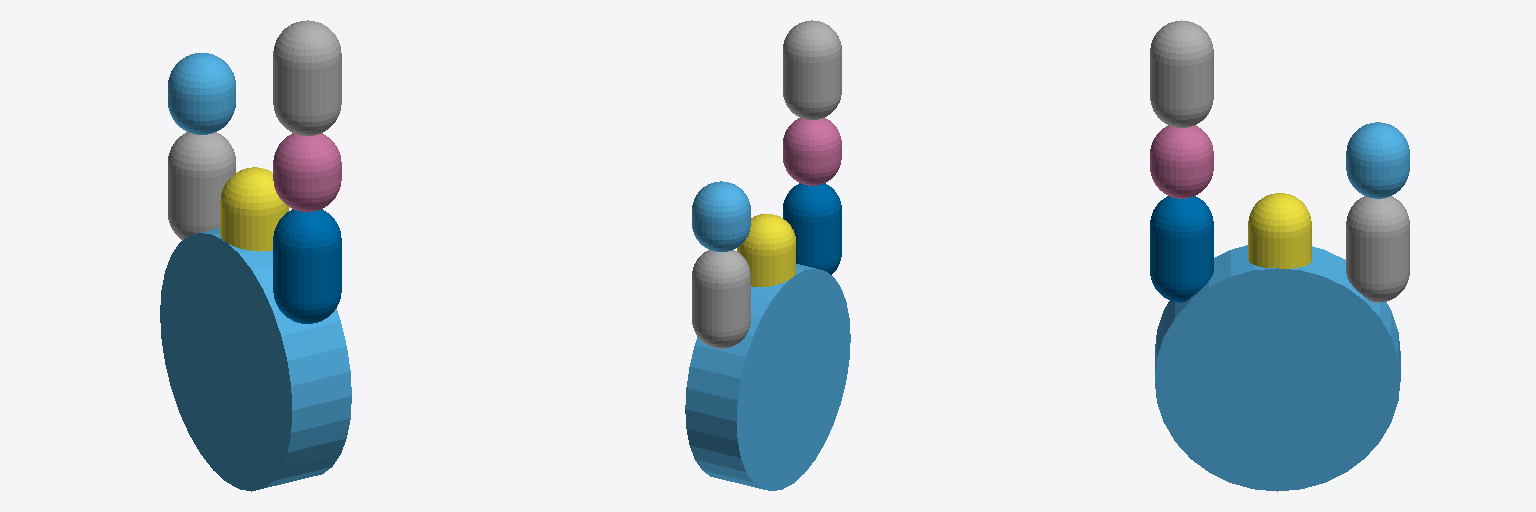
robot.urdf — DexterousHand:
<?xml version="1.0"?>
<robot name="DexterousHand">


    <link name="world"/>
    <joint name="world_to_palm" type="fixed">
        <parent link="world"/>
        <child link="palm"/>
        <origin xyz="0 0 0" rpy="0 0 0"/>
    </joint>
    <link name="palm">
        <inertial>
            <origin xyz="0 0 0.057" rpy="0 0 0"/>
            <mass value="0.30212892864"/>
            <inertia ixx="0.00049080844457568" ixy="0.0" ixz="0.0" iyy="0.00026746366246427523" iyz="0.0" izz="0.00026746366246427523"/>
        </inertial>
        <visual>
            <origin xyz="0 0 0.057" rpy="1.5708 0 1.5708"/>
            <geometry>
                <cylinder radius="0.057" length="0.0296"/>
            </geometry>
            <material name="default"/>
        </visual>
        <collision>
            <origin xyz="0 0 0.057" rpy="1.5708 0 1.5708"/>
            <geometry>
                <cylinder radius="0.057" length="0.0296"/>
            </geometry>
        </collision>
    </link>

    
    <joint name="thumb_joint1" type="revolute">
        <parent link="palm"/>
        <child link="thumb_base"/>
        <origin xyz="0.0 0.0 0.0" rpy="0.0 0.0 0.0"/>
        <axis xyz="1 0 0"/>
        <limit lower="0.0" upper="0.0" effort="1.0" velocity="1.0"/>
    </joint>

    <link name="thumb_base"></link>

    <joint name="thumb_joint2" type="revolute">
        <parent link="thumb_base"/>
        <child link="thumb_proximal"/>
        <origin xyz="0.0 0.0 0.0" rpy="0.0 0.0 0.0"/>
        <axis xyz="0 1 0"/>
        <limit lower="0.0" upper="0.0" effort="1.0" velocity="1.0"/>
    </joint>

    <link name="thumb_proximal">
    </link>

    <joint name="thumb_joint3" type="revolute">
        <parent link="thumb_proximal"/>
        <child link="thumb_knuckle"/>
        <origin xyz="0.0 0.0 0.0" rpy="0.0 0.0 0.0"/>
        <axis xyz="1 0 0"/>
        <limit lower="0.0" upper="0.0" effort="1.0" velocity="1.0"/>
    </joint>

    <link name="thumb_knuckle"></link>

    <joint name="thumb_joint4" type="revolute">
        <parent link="thumb_knuckle"/>
        <child link="thumb_middle"/>
        <origin xyz="0 0 0" rpy="0 0 0"/> 
        <axis xyz="0 1 0"/>
        <limit lower="0.0" upper="0.0" effort="1.0" velocity="1.0"/>
    </joint>

    <link name="thumb_middle">
    </link>

    <joint name="thumb_joint5" type="revolute">
        <parent link="thumb_middle"/>
        <child link="thumb_distal"/>
        <origin xyz="0 0 0" rpy="0 0 0"/> 
        <axis xyz="0 1 0"/>
        <limit lower="0.0" upper="0.0" effort="1.0" velocity="1.0"/>
    </joint>

    <link name="thumb_distal">
    </link>

    
    <joint name="index_joint1" type="revolute">
        <parent link="palm"/>
        <child link="index_proximal"/>
        <origin xyz="0.0 0.0465 0.091" rpy="0.0 0.0 0.0"/>
        <axis xyz="0 1 0"/>
        <limit lower="-0.314" upper="2.23" effort="1.0" velocity="1.0"/>
    </joint>

    <link name="index_proximal">
        <inertial>
            <origin xyz="0 0 0.02655" rpy="0 0 0"/>
            <mass value="0.036540024998400006"/>
            <inertia ixx="1.058665009272394e-05" ixy="0.0" ixz="0.0" 
            iyy="1.058665009272394e-05" iyz="0.0" izz="4.001863537824769e-06"/>
        </inertial>
        <visual>
            <origin xyz="0 0 0.02655" rpy="0 0 0"/>
            <geometry>
                <cylinder radius="0.0148" length="0.0235"/>
            </geometry>
            <material name="default"/>
        </visual>
        <visual>
            <origin xyz="0 0 0.0148" rpy="0 0 0"/>
            <geometry>
                <sphere radius="0.0148"/>
            </geometry>
            <material name="default"/>
        </visual>
        <visual>
            <origin xyz="0 0 0.0383" rpy="0 0 0"/>
            <geometry>
                <sphere radius="0.0148"/>
            </geometry>
            <material name="default"/>
        </visual>
        <collision>
            <origin xyz="0 0 0.02655" rpy="0 0 0"/>
            <geometry>
                <cylinder radius="0.0148" length="0.0235"/>
            </geometry>
        </collision>
        <collision>
            <origin xyz="0 0 0.0148" rpy="0 0 0"/>
            <geometry>
                <sphere radius="0.0148"/>
            </geometry>
        </collision>
        <collision>
            <origin xyz="0 0 0.0383" rpy="0 0 0"/>
            <geometry>
                <sphere radius="0.0148"/>
            </geometry>
        </collision>
    </link>

    <joint name="index_joint2" type="revolute">
        <parent link="index_proximal"/>
        <child link="index_dummy"/>
        <origin xyz="0.0 0.0 0.038" rpy="0.0 0.0 0.0"/>
        <axis xyz="1 0 0"/>
        <limit lower="-1.047" upper="1.047" effort="1.0" velocity="1.0"/>
    </joint>

    <link name="index_dummy"></link>

    <joint name="index_joint3" type="revolute">
        <parent link="index_dummy"/>
        <child link="index_middle"/>
        <origin xyz="0 0 0.015100000000000002" rpy="0 0 0"/>
        <axis xyz="0 1 0"/>
        <limit lower="-0.506" upper="1.885" effort="1.0" velocity="1.0"/>
    </joint>

    <link name="index_middle">
        <inertial>
            <origin xyz="0 0 0.01805" rpy="0 0 0"/>
            <mass value="0.0248417119104"/>
            <inertia ixx="4.058162759109537e-06" ixy="0.0" ixz="0.0" 
            iyy="4.058162759109537e-06" iyz="0.0" izz="2.7206642884270085e-06"/>
        </inertial>
        <visual>
            <origin xyz="0 0 0.01805" rpy="0 0 0"/>
            <geometry>
                <cylinder radius="0.0148" length="0.006499999999999999"/>
            </geometry>
            <material name="default"/>
        </visual>
        <visual>
            <origin xyz="0 0 0.0148" rpy="0 0 0"/>
            <geometry>
                <sphere radius="0.0148"/>
            </geometry>
            <material name="default"/>
        </visual>
        <visual>
            <origin xyz="0 0 0.0213" rpy="0 0 0"/>
            <geometry>
                <sphere radius="0.0148"/>
            </geometry>
            <material name="default"/>
        </visual>
        <collision>
            <origin xyz="0 0 0.01805" rpy="0 0 0"/>
            <geometry>
                <cylinder radius="0.0148" length="0.006499999999999999"/>
            </geometry>
        </collision>
        <collision>
            <origin xyz="0 0 0.0148" rpy="0 0 0"/>
            <geometry>
                <sphere radius="0.0148"/>
            </geometry>
        </collision>
        <collision>
            <origin xyz="0 0 0.0213" rpy="0 0 0"/>
            <geometry>
                <sphere radius="0.0148"/>
            </geometry>
        </collision>
    </link>

    <joint name="index_joint4" type="revolute">
        <parent link="index_middle"/>
        <child link="index_distal"/>
        <origin xyz="0 0 0.0361" rpy="0 0 0"/> 
        <axis xyz="0 1 0"/>
        <limit lower="0.0" upper="0.0" effort="1.0" velocity="1.0"/>
    </joint>

    <link name="index_distal">
    </link>

    
    <joint name="middle_joint1" type="revolute">
        <parent link="palm"/>
        <child link="middle_proximal"/>
        <origin xyz="0.0 0.0011 0.091" rpy="0.0 0.0 0.0"/>
        <axis xyz="0 1 0"/>
        <limit lower="-0.314" upper="2.23" effort="1.0" velocity="1.0"/>
    </joint>

    <link name="middle_proximal">
        <inertial>
            <origin xyz="0 0 0.02655" rpy="0 0 0"/>
            <mass value="0.036540024998400006"/>
            <inertia ixx="1.058665009272394e-05" ixy="0.0" ixz="0.0" 
            iyy="1.058665009272394e-05" iyz="0.0" izz="4.001863537824769e-06"/>
        </inertial>
        <visual>
            <origin xyz="0 0 0.02655" rpy="0 0 0"/>
            <geometry>
                <cylinder radius="0.0148" length="0.0235"/>
            </geometry>
            <material name="default"/>
        </visual>
        <visual>
            <origin xyz="0 0 0.0148" rpy="0 0 0"/>
            <geometry>
                <sphere radius="0.0148"/>
            </geometry>
            <material name="default"/>
        </visual>
        <visual>
            <origin xyz="0 0 0.0383" rpy="0 0 0"/>
            <geometry>
                <sphere radius="0.0148"/>
            </geometry>
            <material name="default"/>
        </visual>
        <collision>
            <origin xyz="0 0 0.02655" rpy="0 0 0"/>
            <geometry>
                <cylinder radius="0.0148" length="0.0235"/>
            </geometry>
        </collision>
        <collision>
            <origin xyz="0 0 0.0148" rpy="0 0 0"/>
            <geometry>
                <sphere radius="0.0148"/>
            </geometry>
        </collision>
        <collision>
            <origin xyz="0 0 0.0383" rpy="0 0 0"/>
            <geometry>
                <sphere radius="0.0148"/>
            </geometry>
        </collision>
    </link>

    <joint name="middle_joint2" type="revolute">
        <parent link="middle_proximal"/>
        <child link="middle_dummy"/>
        <origin xyz="0.0 0.0 0.038" rpy="0.0 0.0 0.0"/>
        <axis xyz="0 1 0"/>
        <limit lower="0.0" upper="0.0" effort="1.0" velocity="1.0"/>
    </joint>

    <link name="middle_dummy"></link>

    <joint name="middle_joint3" type="revolute">
        <parent link="middle_dummy"/>
        <child link="middle_middle"/>
        <origin xyz="0 0 0.015100000000000002" rpy="0 0 0"/>
        <axis xyz="0 1 0"/>
        <limit lower="0.0" upper="0.0" effort="1.0" velocity="1.0"/>
    </joint>

    <link name="middle_middle">
    </link>

    <joint name="middle_joint4" type="revolute">
        <parent link="middle_middle"/>
        <child link="middle_distal"/>
        <origin xyz="0 0 0" rpy="0 0 0"/> 
        <axis xyz="0 1 0"/>
        <limit lower="0.0" upper="0.0" effort="1.0" velocity="1.0"/>
    </joint>

    <link name="middle_distal">
    </link>

    
    <joint name="ring_joint1" type="revolute">
        <parent link="palm"/>
        <child link="ring_proximal"/>
        <origin xyz="0.0 0.0 0.0" rpy="0.0 0.0 0.0"/>
        <axis xyz="1 0 0"/>
        <limit lower="0.0" upper="0.0" effort="1.0" velocity="1.0"/>
    </joint>

    <link name="ring_proximal">
    </link>

    <joint name="ring_joint2" type="revolute">
        <parent link="ring_proximal"/>
        <child link="ring_dummy"/>
        <origin xyz="0.0 0.0 0.0" rpy="0.0 0.0 0.0"/>
        <axis xyz="0 1 0"/>
        <limit lower="0.0" upper="0.0" effort="1.0" velocity="1.0"/>
    </joint>

    <link name="ring_dummy"></link>

    <joint name="ring_joint3" type="revolute">
        <parent link="ring_dummy"/>
        <child link="ring_middle"/>
        <origin xyz="0 0 0" rpy="0 0 0"/>
        <axis xyz="0 1 0"/>
        <limit lower="0.0" upper="0.0" effort="1.0" velocity="1.0"/>
    </joint>

    <link name="ring_middle">
    </link>

    <joint name="ring_joint4" type="revolute">
        <parent link="ring_middle"/>
        <child link="ring_distal"/>
        <origin xyz="0 0 0" rpy="0 0 0"/> 
        <axis xyz="0 1 0"/>
        <limit lower="0.0" upper="0.0" effort="1.0" velocity="1.0"/>
    </joint>

    <link name="ring_distal">
    </link>

    
    <joint name="little_joint0" type="revolute">
        <parent link="palm"/>
        <child link="little_base"/>
        <origin xyz="0.0 0.0 0.0" rpy="0.0 0.0 0.0"/>
        <axis xyz="0 1 0"/>
        <limit lower="0.0" upper="0.0" effort="1.0" velocity="1.0"/>
    </joint>

    <link name="little_base"></link>

    <joint name="little_joint1" type="revolute">
        <parent link="little_base"/>
        <child link="little_proximal"/>
        <origin xyz="0.0 -0.0443 0.091" rpy="-0.0 -0.0 -0.0"/>
        <axis xyz="0 1 0"/>
        <limit lower="-0.314" upper="2.23" effort="1.0" velocity="1.0"/>
    </joint>

    <link name="little_proximal">
        <inertial>
            <origin xyz="0 0 0.02655" rpy="0 0 0"/>
            <mass value="0.036540024998400006"/>
            <inertia ixx="1.058665009272394e-05" ixy="0.0" ixz="0.0" 
            iyy="1.058665009272394e-05" iyz="0.0" izz="4.001863537824769e-06"/>
        </inertial>
        <visual>
            <origin xyz="0 0 0.02655" rpy="0 0 0"/>
            <geometry>
                <cylinder radius="0.0148" length="0.0235"/>
            </geometry>
            <material name="default"/>
        </visual>
        <visual>
            <origin xyz="0 0 0.0148" rpy="0 0 0"/>
            <geometry>
                <sphere radius="0.0148"/>
            </geometry>
            <material name="default"/>
        </visual>
        <visual>
            <origin xyz="0 0 0.0383" rpy="0 0 0"/>
            <geometry>
                <sphere radius="0.0148"/>
            </geometry>
            <material name="default"/>
        </visual>
        <collision>
            <origin xyz="0 0 0.02655" rpy="0 0 0"/>
            <geometry>
                <cylinder radius="0.0148" length="0.0235"/>
            </geometry>
        </collision>
        <collision>
            <origin xyz="0 0 0.0148" rpy="0 0 0"/>
            <geometry>
                <sphere radius="0.0148"/>
            </geometry>
        </collision>
        <collision>
            <origin xyz="0 0 0.0383" rpy="0 0 0"/>
            <geometry>
                <sphere radius="0.0148"/>
            </geometry>
        </collision>
    </link>

    <joint name="little_joint2" type="revolute">
        <parent link="little_proximal"/>
        <child link="little_dummy"/>
        <origin xyz="0.0 0.0 0.038" rpy="0.0 0.0 0.0"/>
        <axis xyz="1 0 0"/>
        <limit lower="-1.047" upper="1.047" effort="1.0" velocity="1.0"/>
    </joint>

    <link name="little_dummy"></link>

    <joint name="little_joint3" type="revolute">
        <parent link="little_dummy"/>
        <child link="little_middle"/>
        <origin xyz="0 0 0.015100000000000002" rpy="0 0 0"/>
        <axis xyz="0 1 0"/>
        <limit lower="-0.506" upper="1.885" effort="1.0" velocity="1.0"/>
    </joint>

    <link name="little_middle">
        <inertial>
            <origin xyz="0 0 0.01805" rpy="0 0 0"/>
            <mass value="0.0248417119104"/>
            <inertia ixx="4.058162759109537e-06" ixy="0.0" ixz="0.0" 
            iyy="4.058162759109537e-06" iyz="0.0" izz="2.7206642884270085e-06"/>
        </inertial>
        <visual>
            <origin xyz="0 0 0.01805" rpy="0 0 0"/>
            <geometry>
                <cylinder radius="0.0148" length="0.006499999999999999"/>
            </geometry>
            <material name="default"/>
        </visual>
        <visual>
            <origin xyz="0 0 0.0148" rpy="0 0 0"/>
            <geometry>
                <sphere radius="0.0148"/>
            </geometry>
            <material name="default"/>
        </visual>
        <visual>
            <origin xyz="0 0 0.0213" rpy="0 0 0"/>
            <geometry>
                <sphere radius="0.0148"/>
            </geometry>
            <material name="default"/>
        </visual>
        <collision>
            <origin xyz="0 0 0.01805" rpy="0 0 0"/>
            <geometry>
                <cylinder radius="0.0148" length="0.006499999999999999"/>
            </geometry>
        </collision>
        <collision>
            <origin xyz="0 0 0.0148" rpy="0 0 0"/>
            <geometry>
                <sphere radius="0.0148"/>
            </geometry>
        </collision>
        <collision>
            <origin xyz="0 0 0.0213" rpy="0 0 0"/>
            <geometry>
                <sphere radius="0.0148"/>
            </geometry>
        </collision>
    </link>

    <joint name="little_joint4" type="revolute">
        <parent link="little_middle"/>
        <child link="little_distal"/>
        <origin xyz="0 0 0.0361" rpy="0 0 0"/>
        <axis xyz="0 1 0"/>
        <limit lower="-0.366" upper="2.042" effort="1.0" velocity="1.0"/>
    </joint>

    <link name="little_distal">
        <inertial>
            <origin xyz="0 0 0.026" rpy="0 0 0"/>
            <mass value="0.035783075328"/>
            <inertia ixx="1.002260084553728e-05" ixy="0.0" ixz="0.0" 
            iyy="1.002260084553728e-05" iyz="0.0" izz="3.91896240992256e-06"/>
        </inertial>
        <visual>
            <origin xyz="0 0 0.026" rpy="0 0 0"/>
            <geometry>
                <cylinder radius="0.0148" length="0.022399999999999996"/>
            </geometry>
            <material name="default"/>
        </visual>
        <visual>
            <origin xyz="0 0 0.0148" rpy="0 0 0"/>
            <geometry>
                <sphere radius="0.0148"/>
            </geometry>
            <material name="default"/>
        </visual>
        <visual>
            <origin xyz="0 0 0.0372" rpy="0 0 0"/>
            <geometry>
                <sphere radius="0.0148"/>
            </geometry>
            <material name="default"/>
        </visual>
        <collision>
            <origin xyz="0 0 0.026" rpy="0 0 0"/>
            <geometry>
                <cylinder radius="0.0148" length="0.022399999999999996"/>
            </geometry>
        </collision>
        <collision>
            <origin xyz="0 0 0.0148" rpy="0 0 0"/>
            <geometry>
                <sphere radius="0.0148"/>
            </geometry>
        </collision>
        <collision>
            <origin xyz="0 0 0.0372" rpy="0 0 0"/>
            <geometry>
                <sphere radius="0.0148"/>
            </geometry>
        </collision>
    </link>

</robot>

--- What the picture shows (computed from the rendered views, not written in the file) ---
The picture shows the robot from 3 angles, left to right: view 1: azimuth 30°, elevation 25°; view 2: azimuth 150°, elevation 25°; view 3: azimuth 270°, elevation 25°; orthographic projection.
Model DexterousHand with 24 links and 23 joints (22 revolute, 1 fixed), rooted at world, posed every joint at zero.
Visible links, largest first — view 1: palm, little_proximal, little_distal, index_proximal, index_middle, little_middle, middle_proximal; view 2: palm, index_proximal, little_distal, little_proximal, index_middle, little_middle, middle_proximal; view 3: palm, little_distal, index_proximal, little_proximal, middle_proximal, index_middle, little_middle.
Boxes of the visible links, x1=… form: palm: x1=160, y1=228, x2=351, y2=491; little_proximal: x1=273, y1=209, x2=341, y2=323; little_distal: x1=273, y1=20, x2=341, y2=135; index_proximal: x1=168, y1=132, x2=235, y2=240; index_middle: x1=168, y1=53, x2=235, y2=134; little_middle: x1=273, y1=133, x2=341, y2=211; middle_proximal: x1=220, y1=167, x2=288, y2=251; palm: x1=685, y1=264, x2=850, y2=490; index_proximal: x1=692, y1=250, x2=750, y2=348; little_distal: x1=783, y1=20, x2=841, y2=119; little_proximal: x1=783, y1=183, x2=841, y2=274; index_middle: x1=692, y1=181, x2=750, y2=251; little_middle: x1=783, y1=118, x2=841, y2=185; middle_proximal: x1=737, y1=214, x2=795, y2=286; palm: x1=1155, y1=245, x2=1400, y2=491; little_distal: x1=1150, y1=20, x2=1213, y2=127; index_proximal: x1=1346, y1=196, x2=1409, y2=302; little_proximal: x1=1150, y1=196, x2=1213, y2=302; middle_proximal: x1=1248, y1=193, x2=1311, y2=268; index_middle: x1=1346, y1=122, x2=1409, y2=198; little_middle: x1=1150, y1=125, x2=1213, y2=198.
Bounding box of the posed robot: 0.0296 × 0.1204 × 0.2322 m (x, y, z).
Geometry: primitives only (box / cylinder / sphere), no mesh files.
